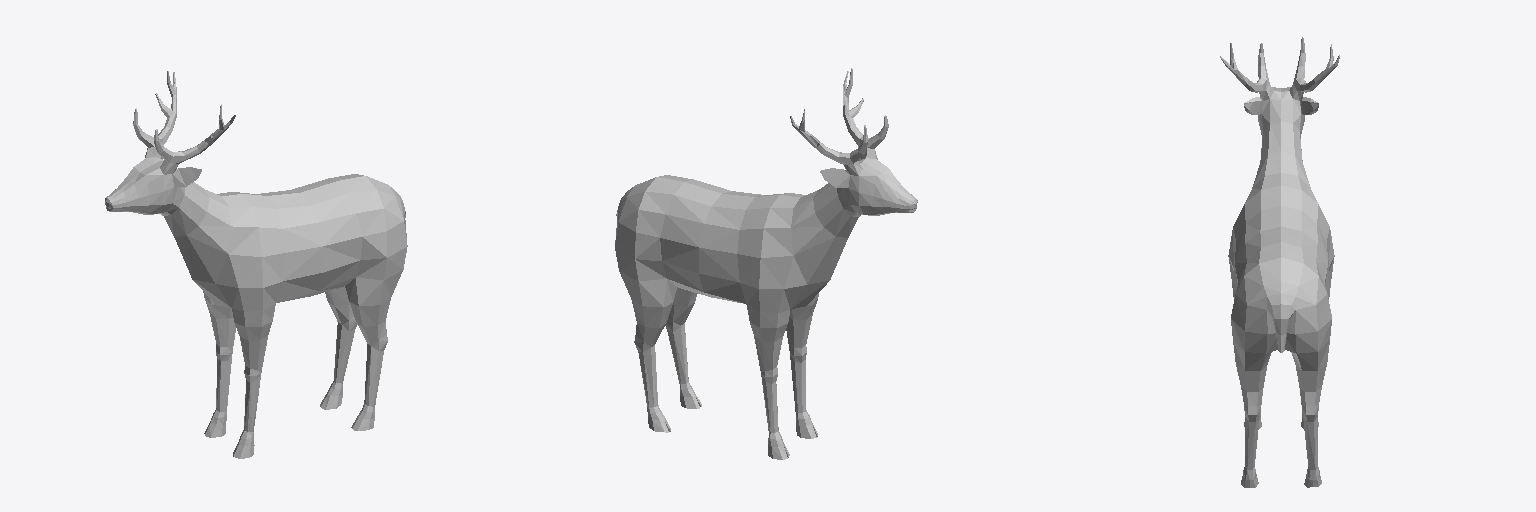
The model's file is deer-obj.obj.
3 views of the same model, side by side, from view 1: azimuth 30°, elevation 25°; view 2: azimuth 150°, elevation 25°; view 3: azimuth 270°, elevation 25° (orthographic).
Parts seen in each view (by area): view 1: deer___UN; view 2: deer___UN; view 3: deer___UN.
Part boxes in pixels (x1,y1,x2,y2): deer___UN: (105, 71, 407, 458); deer___UN: (615, 68, 917, 459); deer___UN: (1220, 37, 1339, 487).
Bounding box in the file's own units: 23.25 × 27.39 × 8.13.